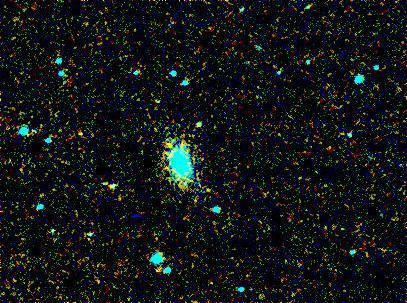star: (146, 255, 176, 285)
